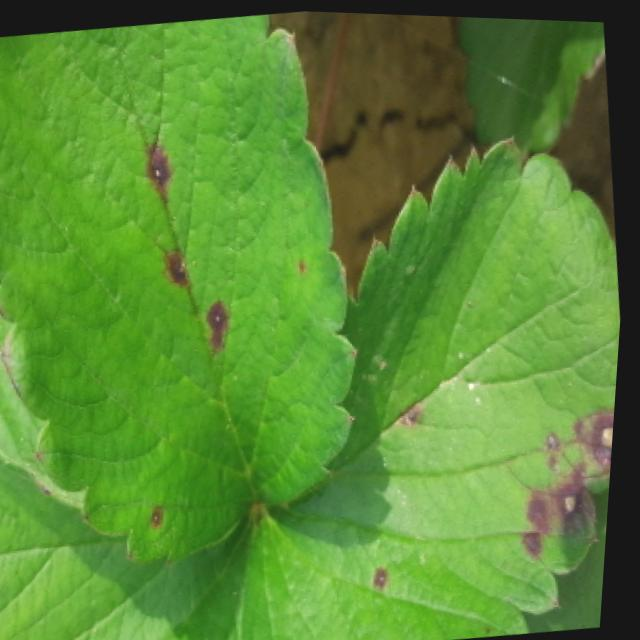Leaf Spot: (0, 12, 365, 560), (245, 128, 624, 640), (0, 442, 264, 640)
